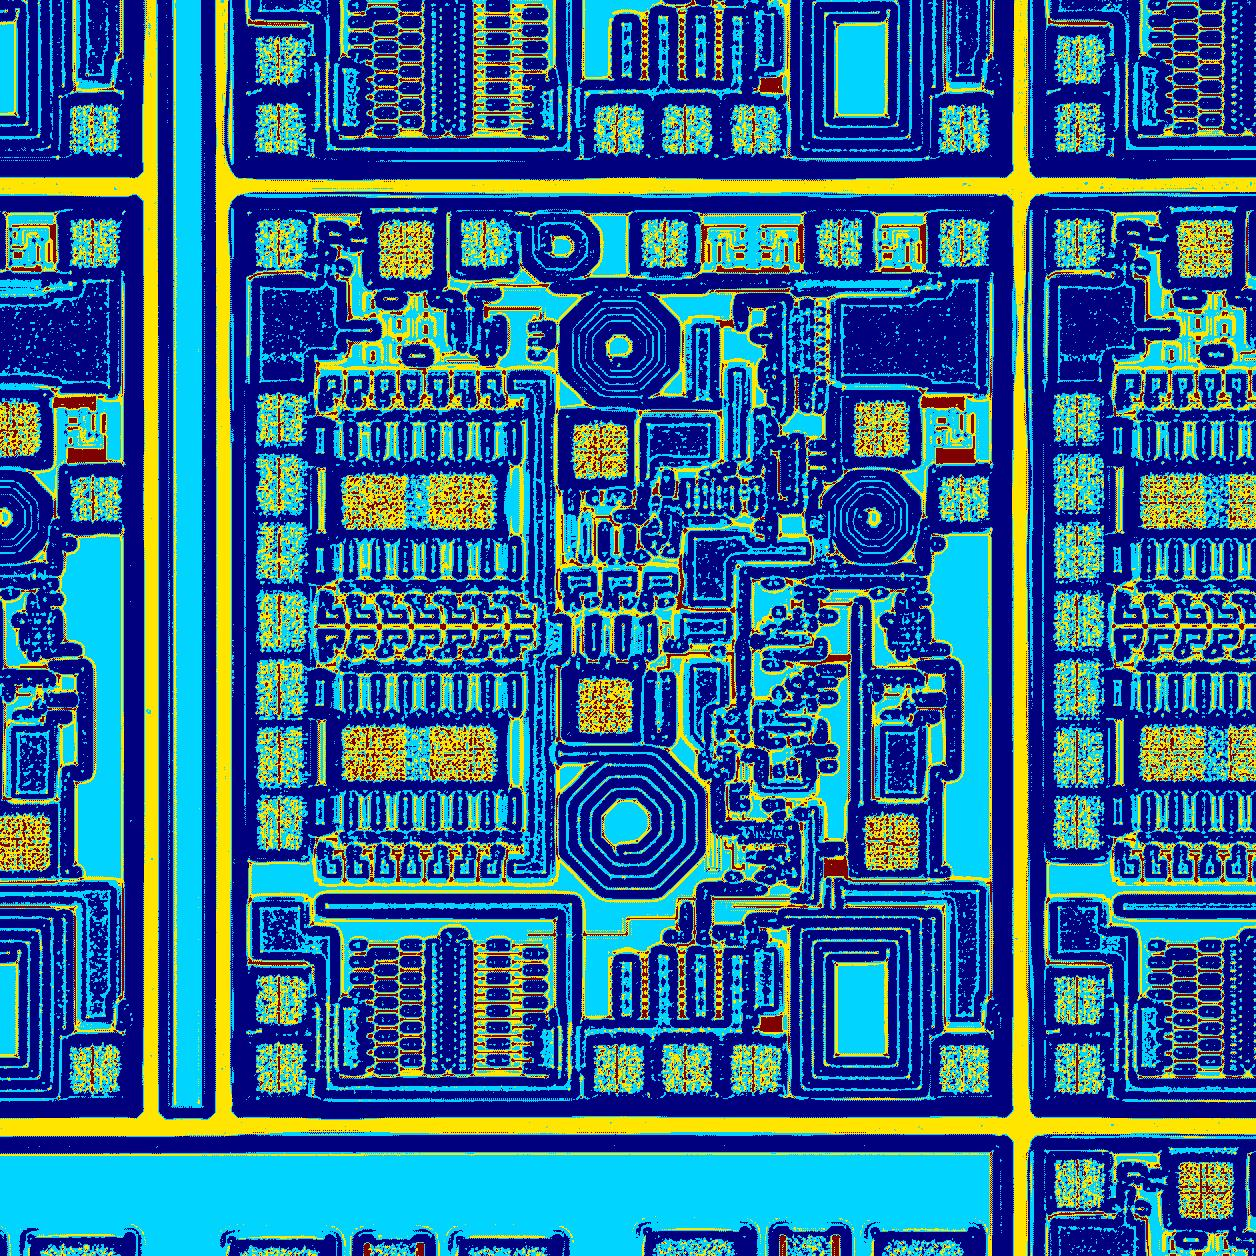Die: (230, 191, 1013, 1118)
Pad 1: (426, 474, 497, 530), (428, 725, 496, 782), (342, 725, 407, 782), (342, 474, 408, 530), (378, 220, 435, 278), (864, 814, 920, 871), (572, 423, 628, 478), (577, 677, 633, 734), (853, 401, 909, 457)
Pad 2: (255, 660, 308, 720), (255, 592, 307, 649), (256, 523, 307, 580), (255, 392, 306, 447), (255, 457, 306, 512), (255, 1042, 306, 1094), (256, 730, 305, 784), (255, 219, 307, 268), (256, 798, 306, 850), (255, 975, 307, 1025), (663, 1044, 712, 1094), (593, 1044, 644, 1093), (730, 1044, 781, 1093), (940, 1044, 989, 1093), (939, 476, 989, 522), (461, 220, 511, 266), (642, 219, 688, 268), (940, 220, 988, 266), (817, 219, 863, 266)
